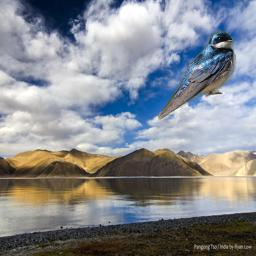Swallow: (158, 29, 236, 121)
